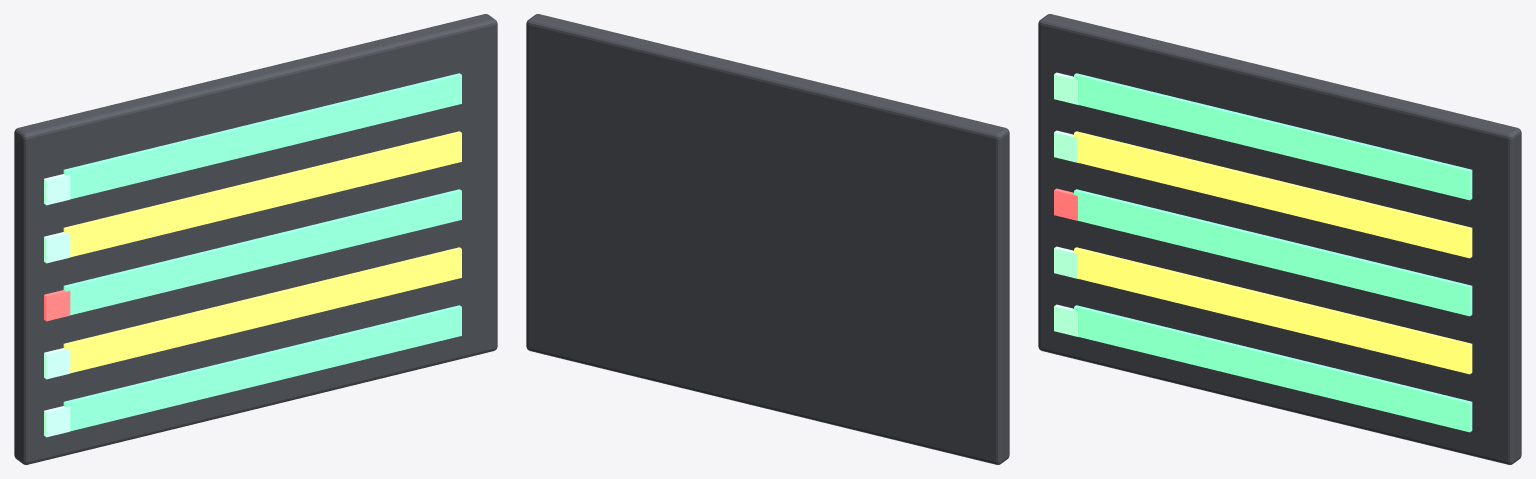
The model's file is wall_screen_status_board.glb.
3 views of the same model, side by side, from view 1: azimuth 30°, elevation 25°; view 2: azimuth 150°, elevation 25°; view 3: azimuth 330°, elevation 25° (orthographic).
Parts seen in each view (by area): view 1: GD_wall_screen_status_board__m0, GD_wall_screen_status_board__m1, GD_wall_screen_status_board__m3, GD_wall_screen_status_board__m2, GD_wall_screen_status_board__m4; view 2: GD_wall_screen_status_board__m0; view 3: GD_wall_screen_status_board__m0, GD_wall_screen_status_board__m1, GD_wall_screen_status_board__m3, GD_wall_screen_status_board__m2, GD_wall_screen_status_board__m4.
Boxes of the visible parts, x1,y1,x2,y2 form: GD_wall_screen_status_board__m0: (14, 14, 497, 464); GD_wall_screen_status_board__m1: (63, 73, 461, 431); GD_wall_screen_status_board__m3: (63, 131, 461, 373); GD_wall_screen_status_board__m2: (44, 174, 70, 437); GD_wall_screen_status_board__m4: (44, 290, 70, 321); GD_wall_screen_status_board__m0: (526, 14, 1009, 464); GD_wall_screen_status_board__m0: (1038, 14, 1521, 464); GD_wall_screen_status_board__m1: (1074, 73, 1472, 432); GD_wall_screen_status_board__m3: (1074, 131, 1472, 374); GD_wall_screen_status_board__m2: (1054, 72, 1077, 336); GD_wall_screen_status_board__m4: (1054, 188, 1077, 220).
Size of the model in its own units: 1.2 by 0.8 by 0.061.
